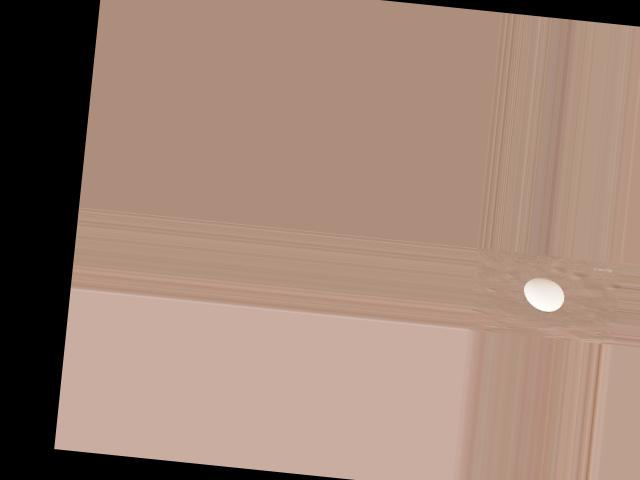egg: (521, 276, 565, 312)
